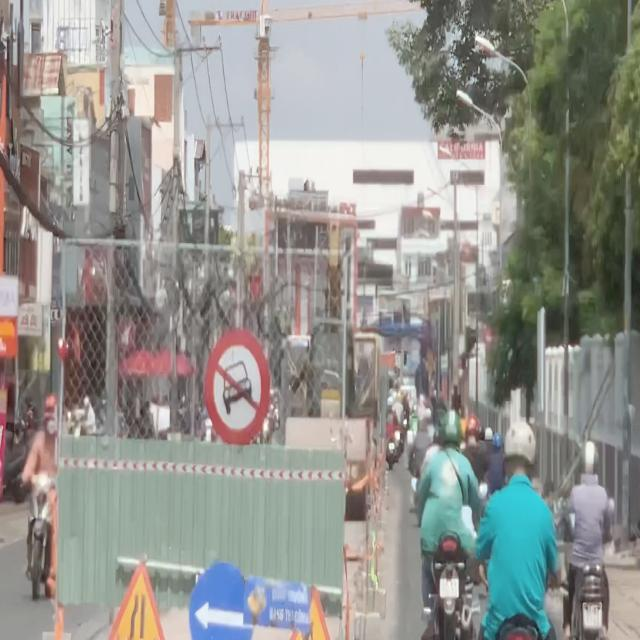Cam con lai: (200, 326, 270, 447)
Nguy hiem: (105, 552, 172, 640)
Re trai: (191, 559, 249, 640)
